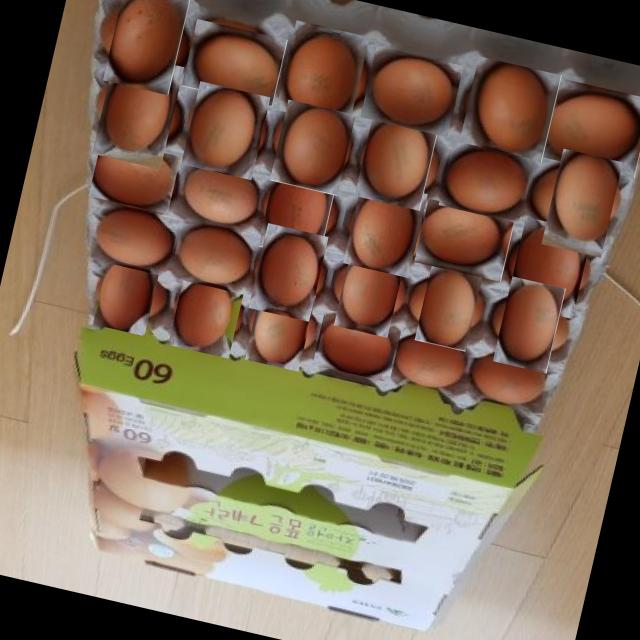eggs: (84, 58, 190, 163), (457, 56, 562, 161), (537, 77, 640, 179), (272, 23, 373, 124), (359, 45, 464, 137), (181, 18, 287, 106), (500, 221, 596, 315), (534, 156, 630, 250), (178, 83, 272, 178), (96, 0, 195, 88), (413, 198, 515, 282), (339, 182, 432, 274), (266, 102, 358, 194), (252, 166, 342, 256), (350, 118, 440, 208), (243, 228, 333, 317), (438, 140, 532, 222), (81, 200, 180, 276), (486, 282, 572, 368), (167, 216, 260, 295), (88, 138, 181, 215), (328, 248, 412, 332), (382, 324, 477, 396), (312, 308, 402, 384), (164, 274, 247, 356), (459, 342, 553, 412), (240, 288, 321, 368), (176, 160, 265, 232), (87, 251, 167, 331), (408, 267, 488, 346)
